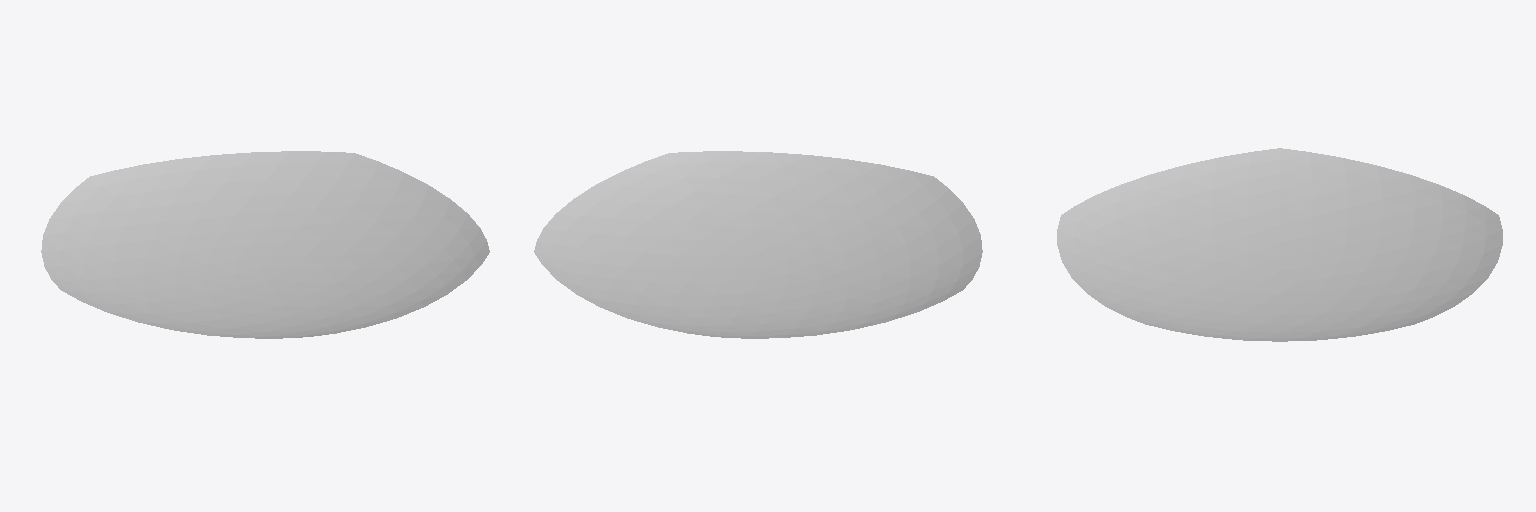
Rendered from ocean.obj.
The picture shows the model from 3 angles: view 1: azimuth 30°, elevation 25°; view 2: azimuth 150°, elevation 25°; view 3: azimuth 270°, elevation 25°; orthographic projection.
Parts seen in each view (by area): view 1: Icosphere_Icosphere.002; view 2: Icosphere_Icosphere.002; view 3: Icosphere_Icosphere.002.
Part boxes in pixels (left/top/right/bottom): Icosphere_Icosphere.002: left=41, top=151, right=489, bottom=338; Icosphere_Icosphere.002: left=534, top=151, right=982, bottom=338; Icosphere_Icosphere.002: left=1057, top=148, right=1502, bottom=341.
Bounding box in the file's own units: 87.25 × 5.53 × 86.42.